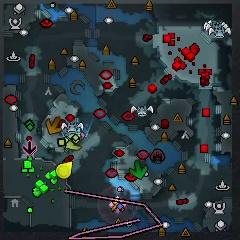Other: (108, 196, 126, 213)
p4: (57, 162, 72, 179)
x1: (81, 132, 85, 140)
x1Clone: (22, 141, 37, 155)
x2: (64, 141, 82, 150)
x3: (69, 128, 81, 138)
x4: (129, 160, 147, 179)
x5: (46, 117, 62, 134)
